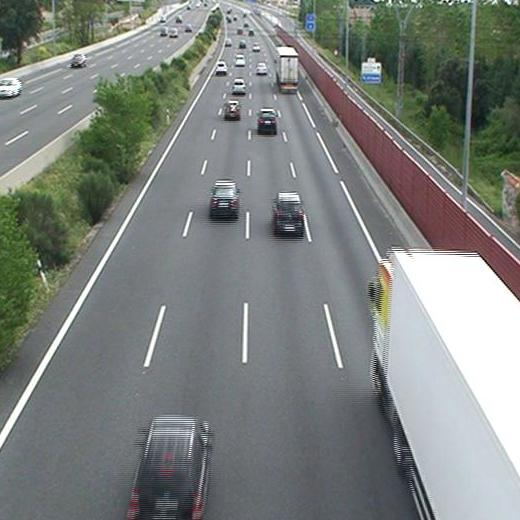car: (127, 416, 210, 518), (274, 192, 303, 231), (211, 182, 237, 214), (257, 109, 277, 130), (224, 100, 240, 118), (232, 80, 245, 93), (255, 62, 266, 74), (215, 62, 226, 74), (234, 55, 245, 65)
truck: (376, 251, 517, 520), (277, 47, 298, 92)
